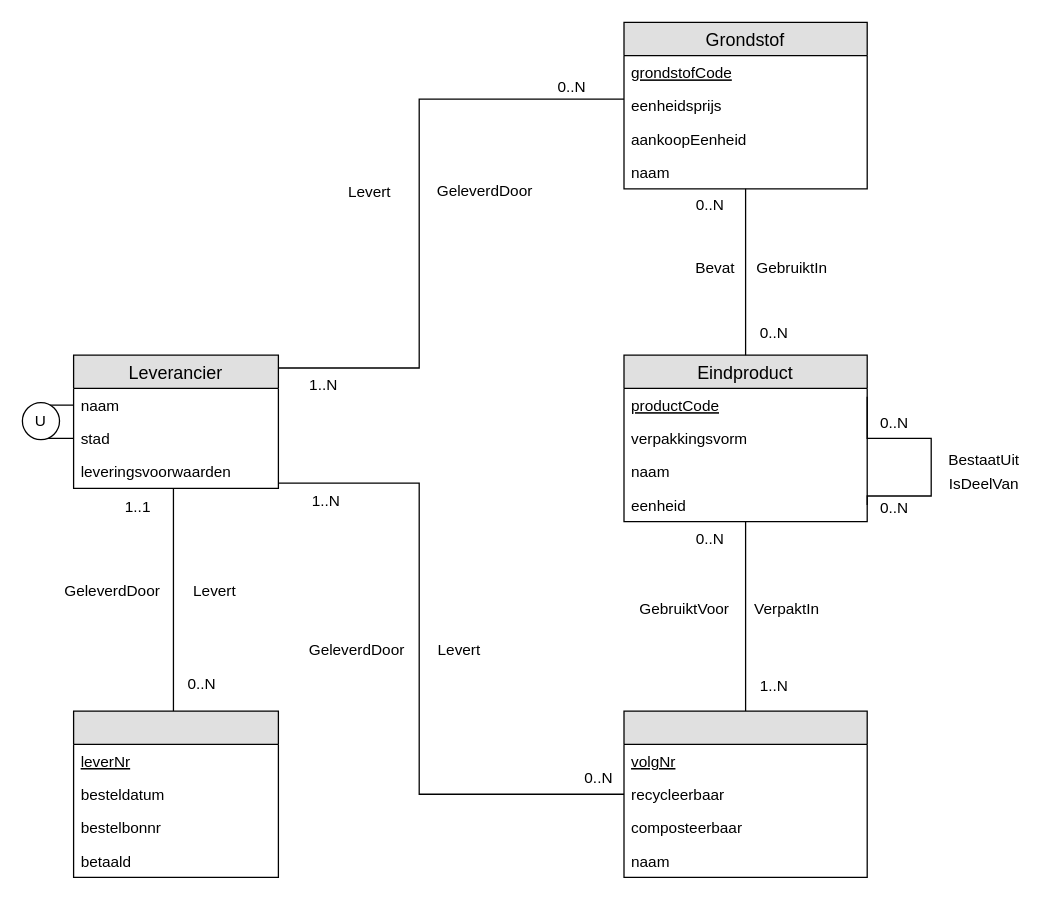
This 1041x904 diagram has some shape labels left out. The box of each missing label's shape, as (x1, y1, x2, y2) in pixels:
Levering: (72, 710, 278, 877)
Verpakkingsmateriaal: (623, 710, 867, 877)
